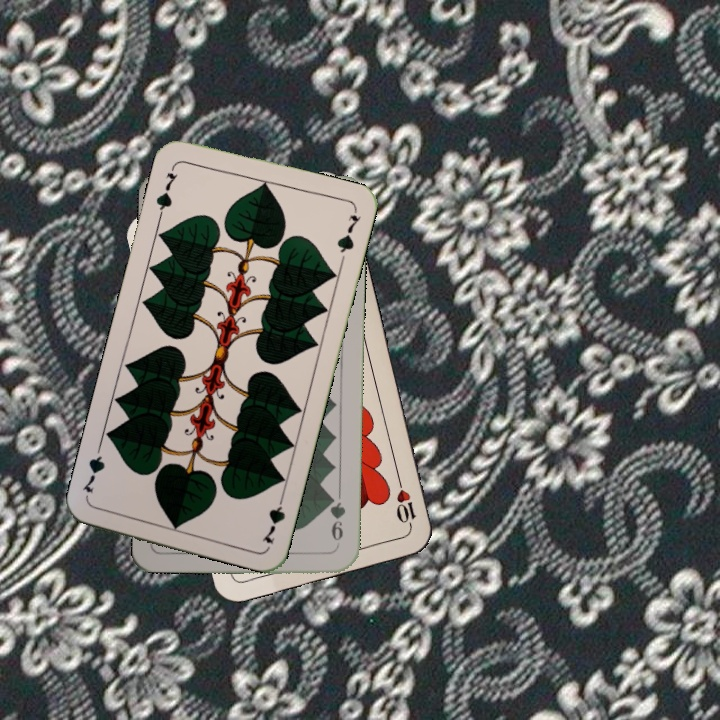G7: (257, 489, 288, 546), (152, 161, 181, 219)
G9: (326, 491, 348, 549)
H10: (392, 474, 419, 533)
